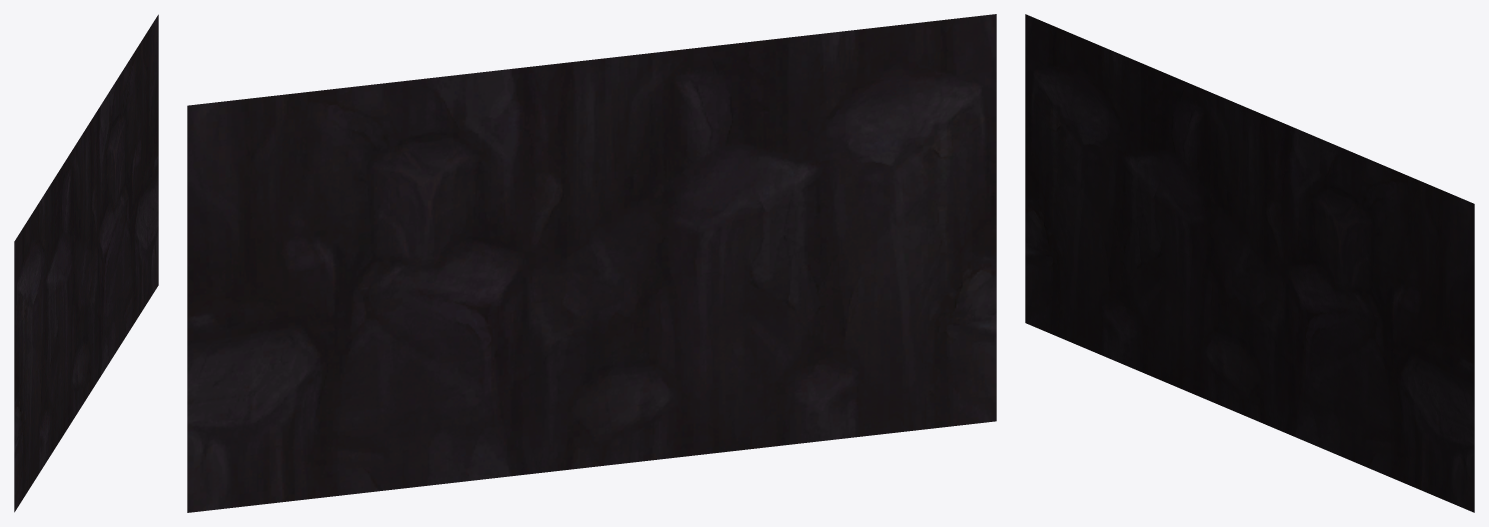
File: cave_half_diagonal_01.fbx
The picture shows the model from 3 angles, left to right: view 1: azimuth 30°, elevation 25°; view 2: azimuth 150°, elevation 25°; view 3: azimuth 270°, elevation 25°; orthographic projection. The views are drawn at different scales.
Visible parts, largest first — view 1: cave_tileset/wall01_half_mat; view 2: cave_tileset/wall01_half_mat; view 3: cave_tileset/wall01_half_mat.
Part boxes in pixels (x1,y1,x2,y2): cave_tileset/wall01_half_mat: [14, 14, 158, 512]; cave_tileset/wall01_half_mat: [187, 14, 996, 512]; cave_tileset/wall01_half_mat: [1025, 14, 1474, 512].
Bounding box in the file's own units: 3.62 × 2.75 × 3.62.
